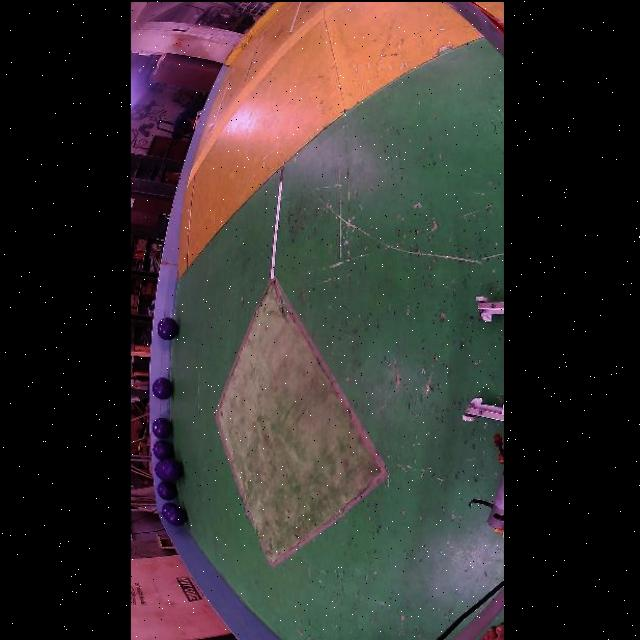P: (155, 457, 182, 480), (156, 317, 178, 339), (152, 376, 173, 398), (156, 480, 177, 500), (152, 439, 173, 459), (151, 417, 171, 437), (166, 505, 186, 524), (161, 501, 175, 518)
